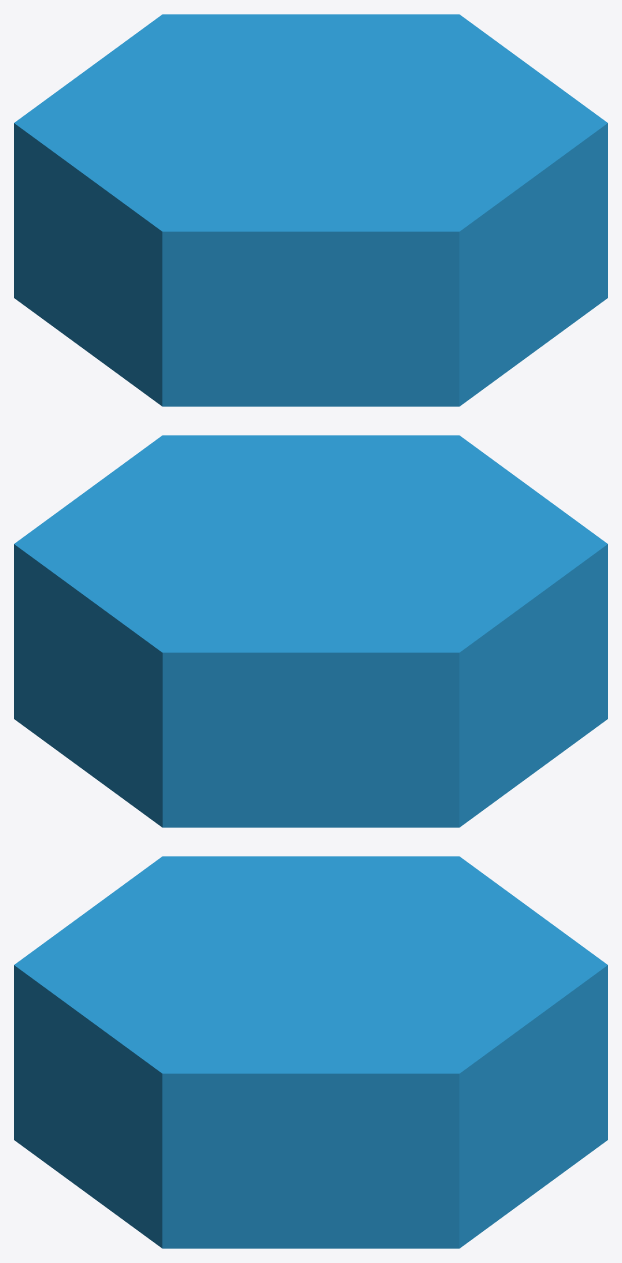
Rendered from _shallow_water_tile_1.glb.
The picture shows the model from 3 angles, top to bottom: view 1: azimuth 30°, elevation 25°; view 2: azimuth 150°, elevation 25°; view 3: azimuth 270°, elevation 25°; orthographic projection.
Parts seen in each view (by area): view 1: WaterTileHalf; view 2: WaterTileHalf; view 3: WaterTileHalf.
Part boxes in pixels (<box>): WaterTileHalf: <box>14,14,607,406</box>; WaterTileHalf: <box>14,435,607,827</box>; WaterTileHalf: <box>14,856,607,1248</box>.
Bounding box in the file's own units: 1.73 × 0.65 × 2.
Materials: 1 (1 with a texture image).
